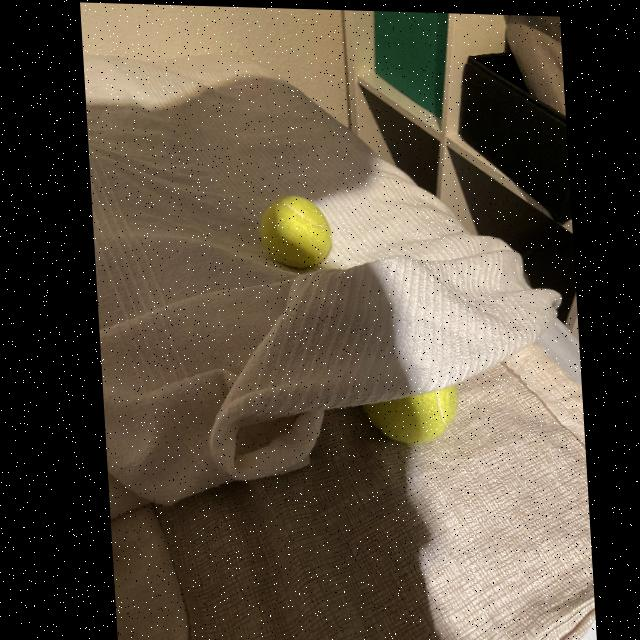Tennisball: (364, 386, 458, 444), (260, 196, 332, 269)
